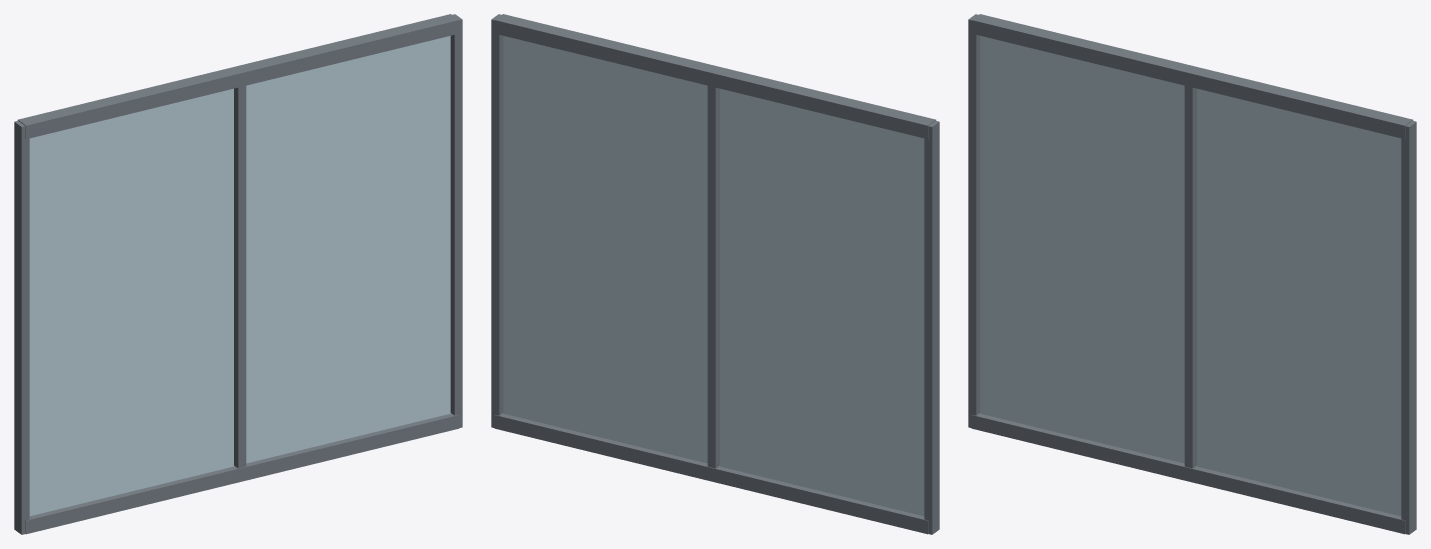
File: partition_glass01.glb
The picture shows the model from 3 angles, left to right: view 1: azimuth 30°, elevation 25°; view 2: azimuth 150°, elevation 25°; view 3: azimuth 330°, elevation 25°; orthographic projection.
Parts seen in each view (by area): view 1: glass, frame, mullion; view 2: glass, frame, mullion; view 3: glass, frame, mullion.
Boxes of the visible parts, x1,y1,x2,y2 form: glass: (29,36,450,516); frame: (17,14,459,534); mullion: (14,14,462,534); glass: (503,36,924,516); frame: (494,14,936,534); mullion: (491,14,939,534); glass: (980,36,1401,516); frame: (971,14,1413,534); mullion: (968,14,1416,534).
Bounding box in the file's own units: 3.06 × 2.7 × 0.1.
